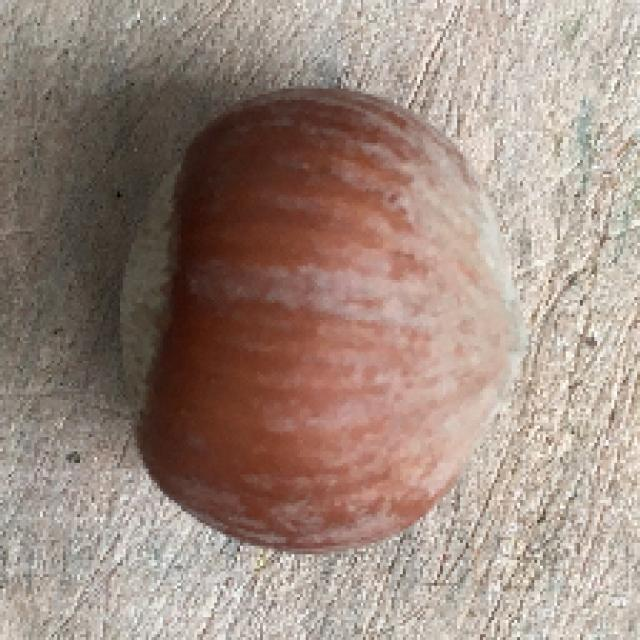hazelnut: (109, 90, 514, 544)
